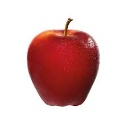apple: (26, 27, 100, 106)
